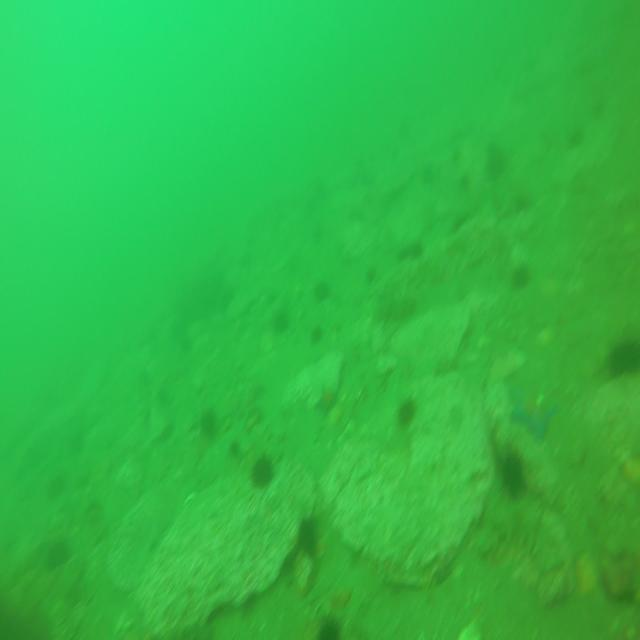echinus: (603, 328, 640, 385), (495, 447, 528, 505), (295, 518, 324, 562), (198, 405, 222, 443), (313, 607, 339, 640), (250, 455, 276, 484), (270, 310, 296, 338), (508, 262, 528, 295), (486, 149, 504, 185), (311, 282, 331, 306), (396, 397, 412, 423)
holothurian: (368, 277, 417, 324)
